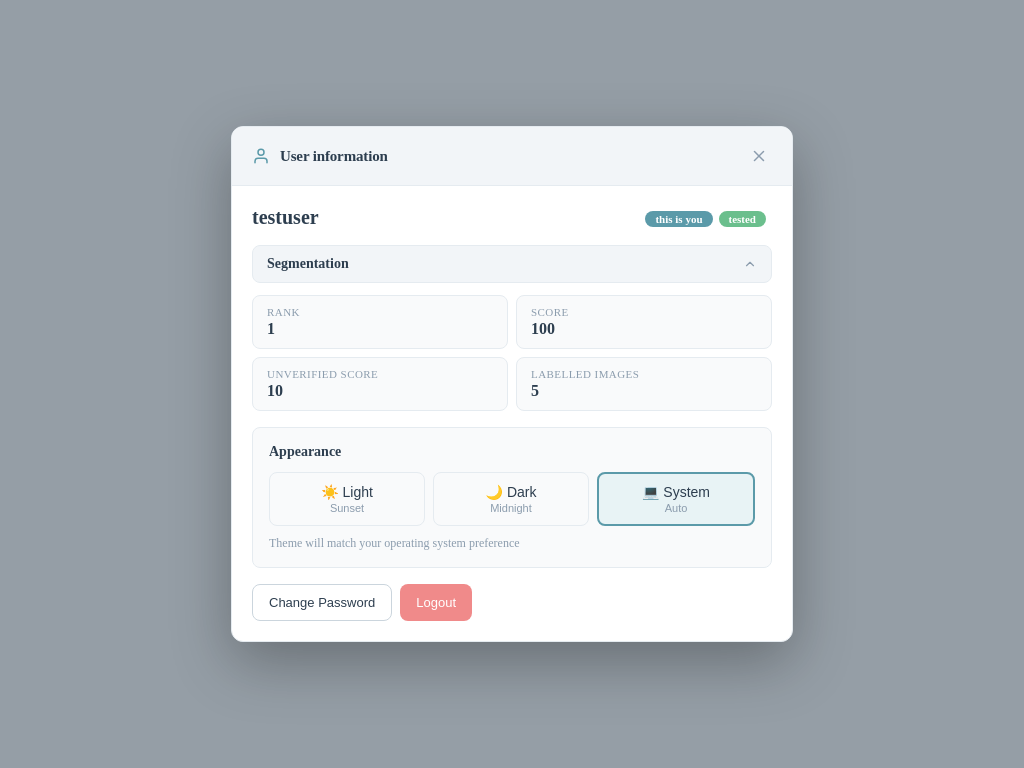
UserProfileModal - Password Change › shows password change form when button is clicked
What coordinates should you click on to do the following:
click the button "Change Password"
I would click on:
 (322, 602)
Its box is [252,584,392,621].
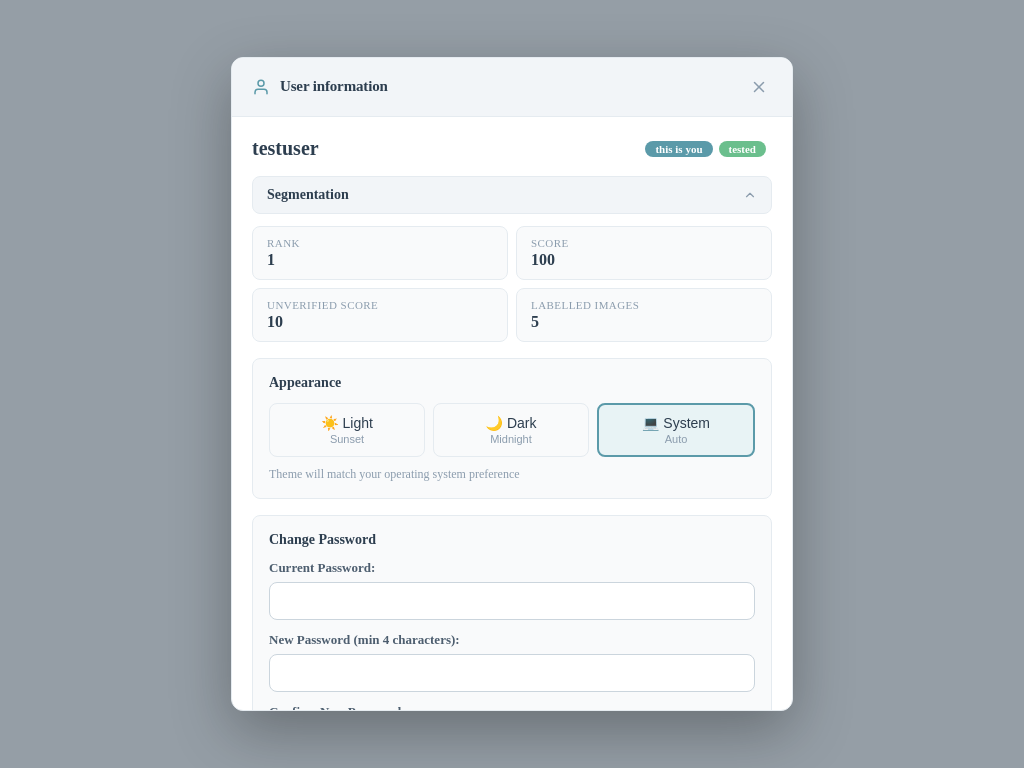
Expected: the password field labelled "Current Password:" is shown, [269,582,755,620]
Expected: the password field labelled "New Password (min 4 characters):" is shown, [269,654,755,692]
